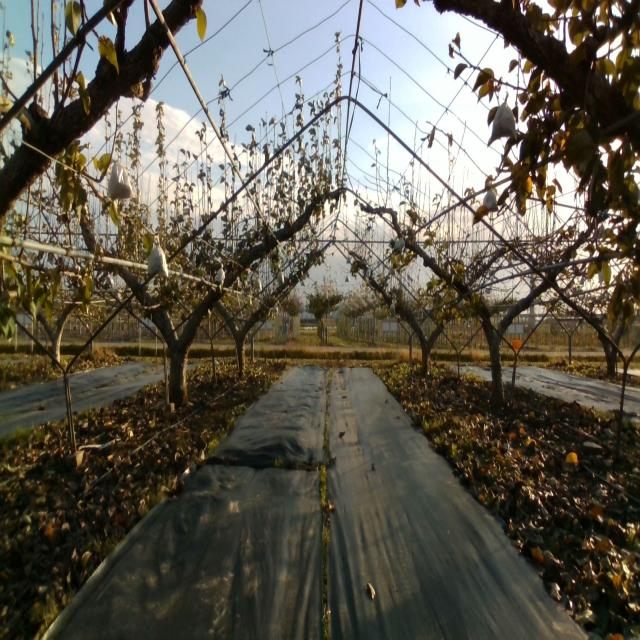pearbags: (490, 92, 517, 140), (106, 159, 133, 200), (146, 235, 168, 278), (482, 189, 497, 209)
